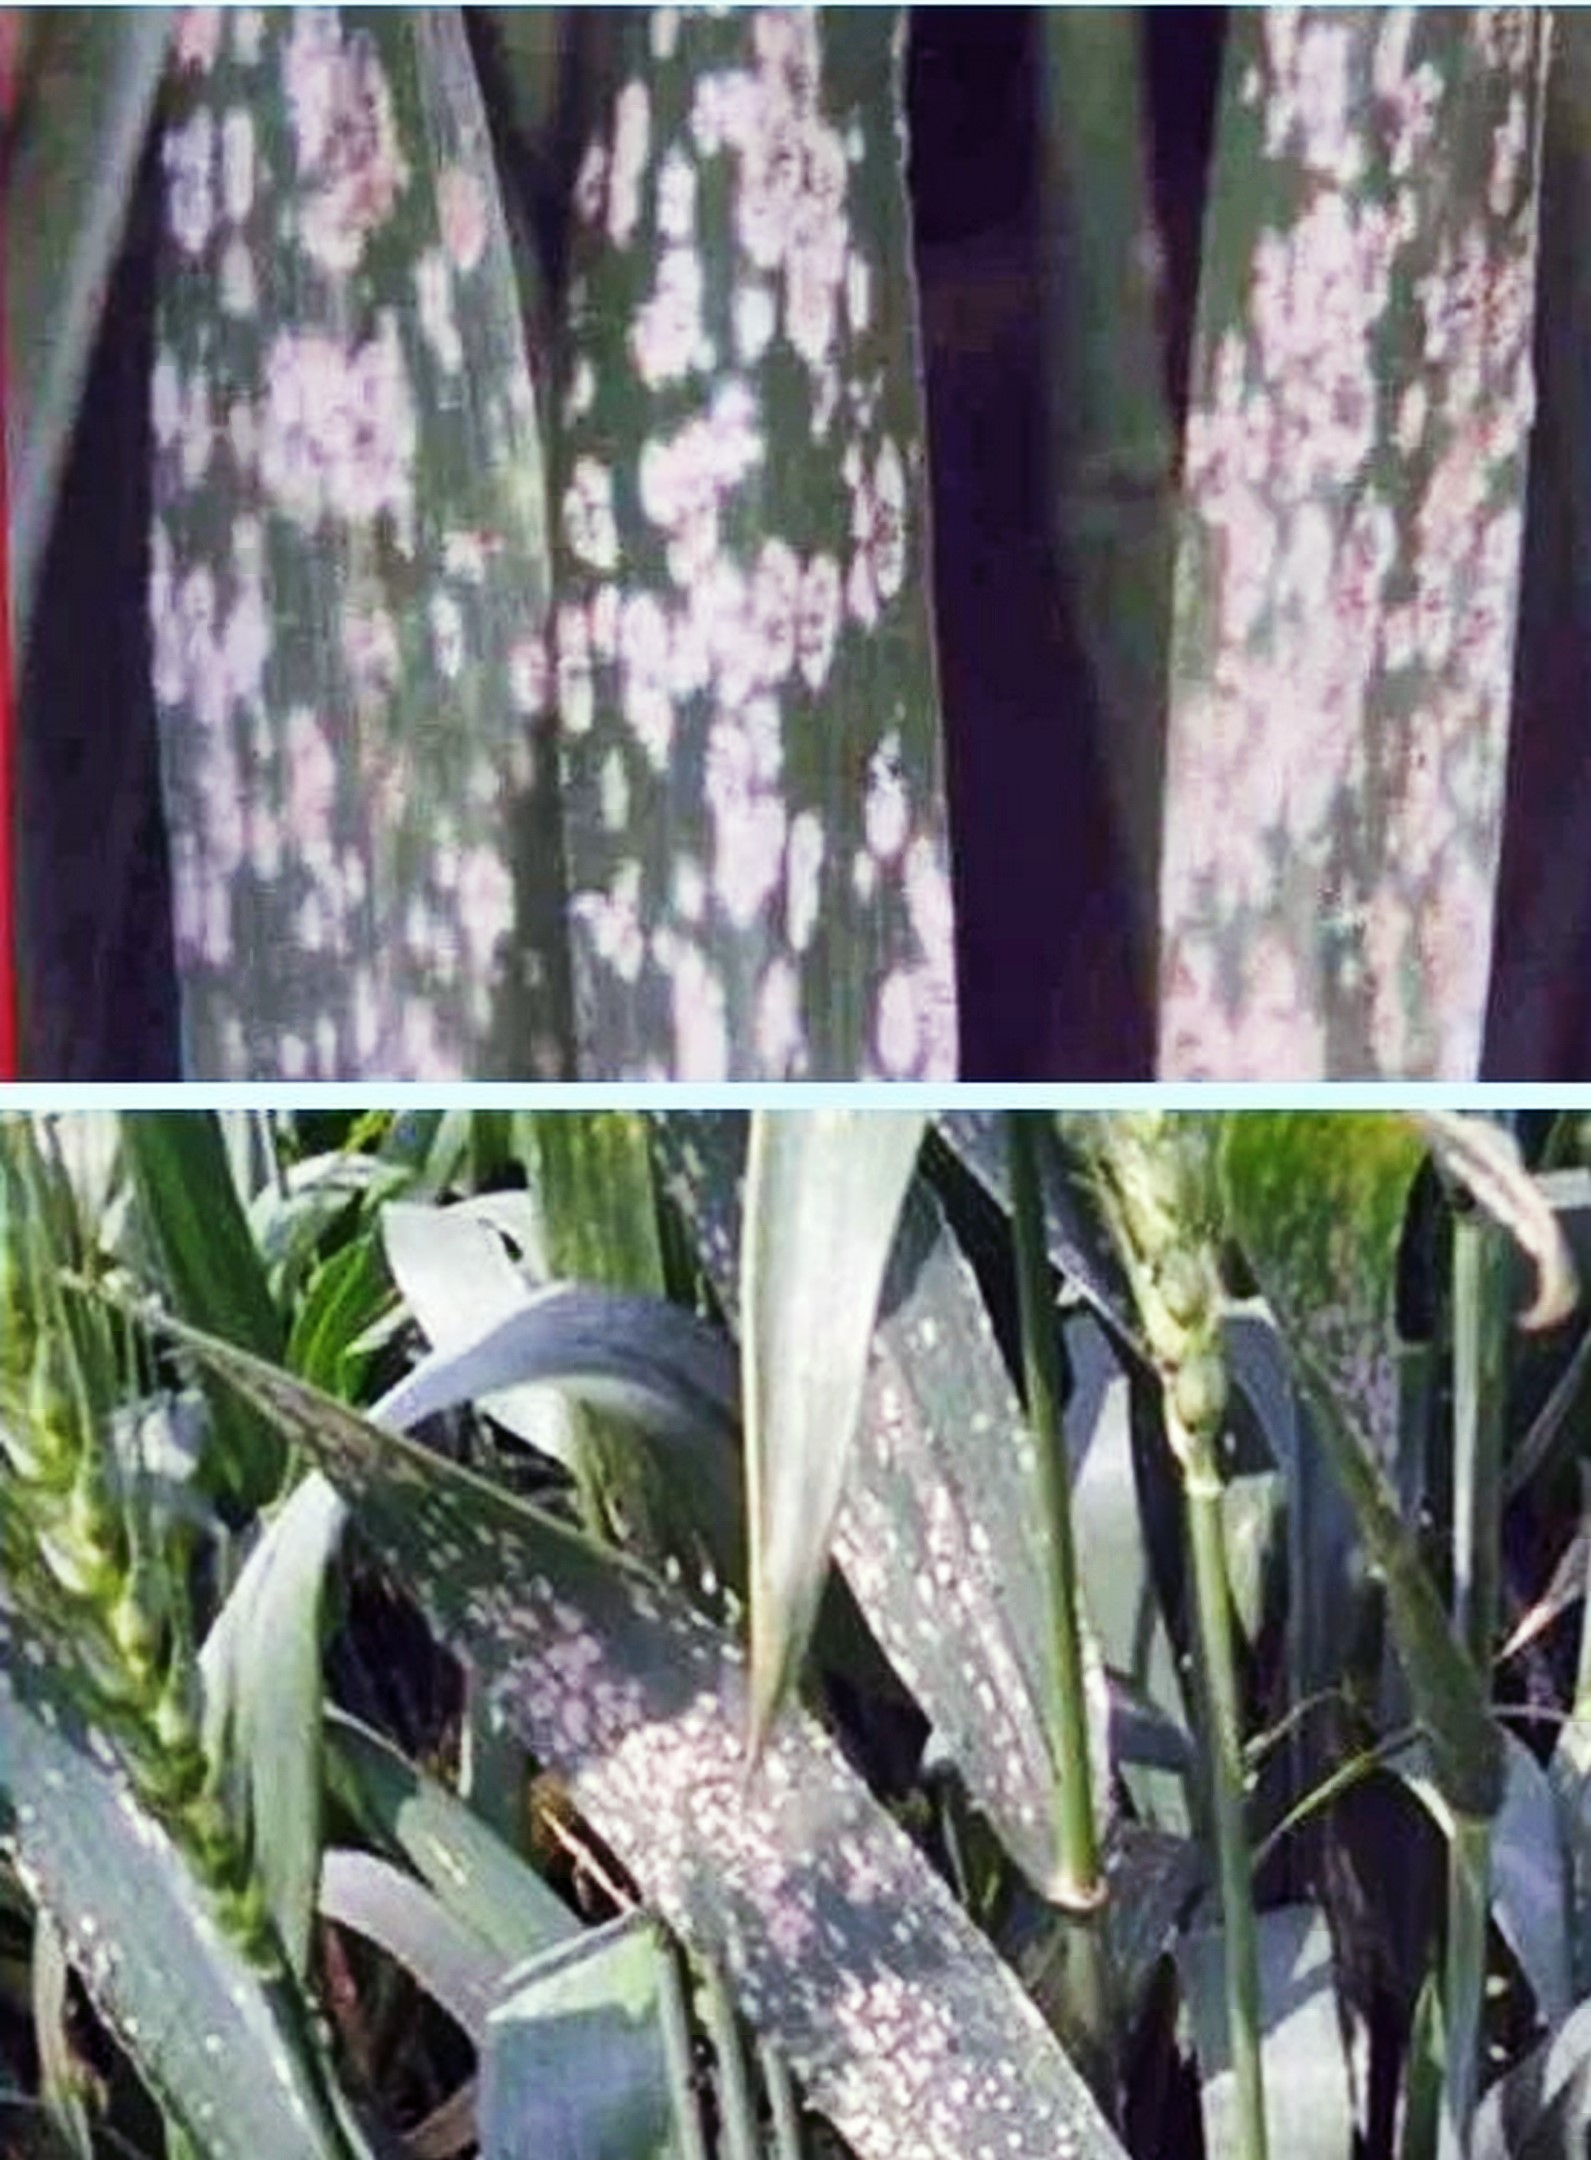Powdery Mildew: (521, 49, 1031, 1041), (394, 1570, 1091, 2148)
